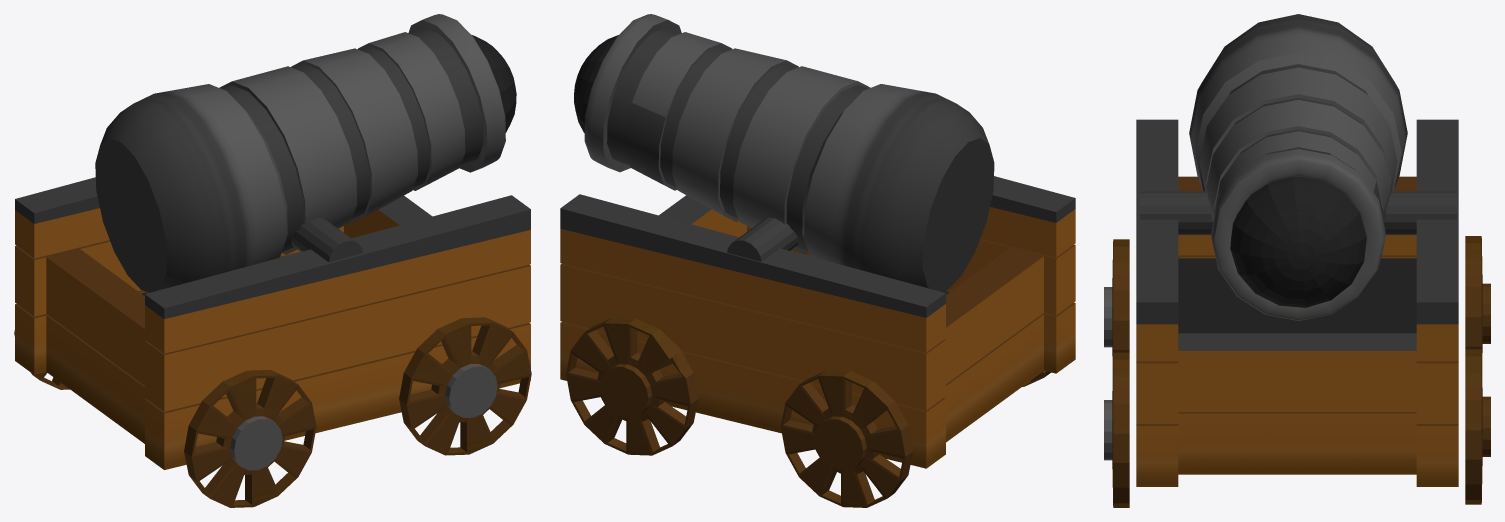
The model's file is Canhao.glb.
The picture shows the model from 3 angles, left to right: view 1: azimuth 30°, elevation 25°; view 2: azimuth 150°, elevation 25°; view 3: azimuth 270°, elevation 25°; orthographic projection. The views are drawn at different scales.
Parts seen in each view (by area): view 1: Canhao; view 2: Canhao; view 3: Canhao.
Part boxes in pixels (left/top/right/bottom): Canhao: left=14, top=14, right=531, bottom=507; Canhao: left=560, top=14, right=1075, bottom=507; Canhao: left=1104, top=14, right=1490, bottom=507.
Bounding box in the file's own units: 2.22 × 1.79 × 1.65.
Materials: 1 (1 with a texture image).
